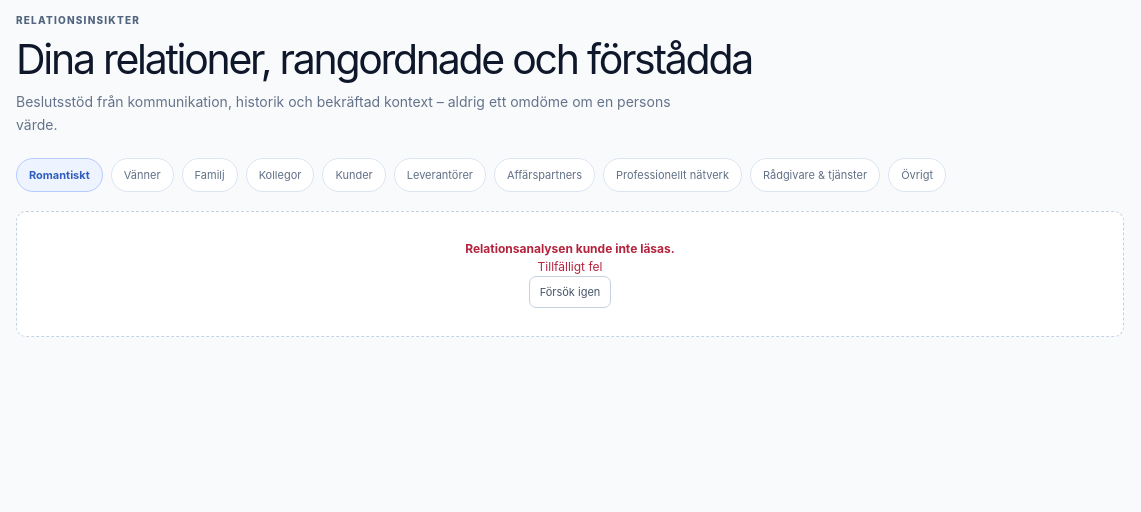
RelationshipWorkspace › shows a retry path after a relationship request fails
The width and height of the screenshot is (1141, 512).
Expected: the message shows "Tillfälligt fel", [538,259,602,274]
Click the button "Försök igen" at (570, 292), box [529,276,611,308]
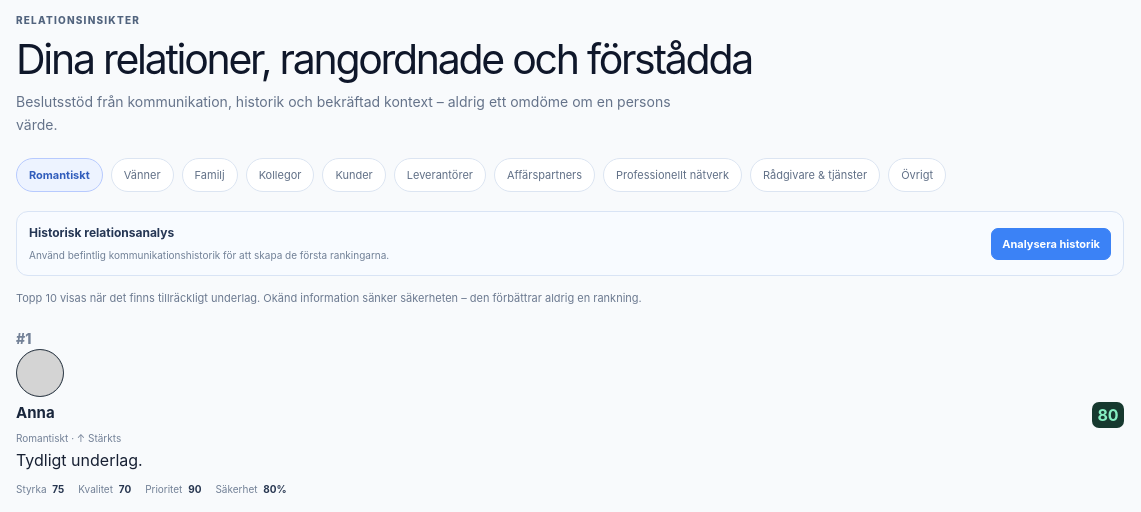
Result: the text "Anna" is shown at [16,403,55,422]
